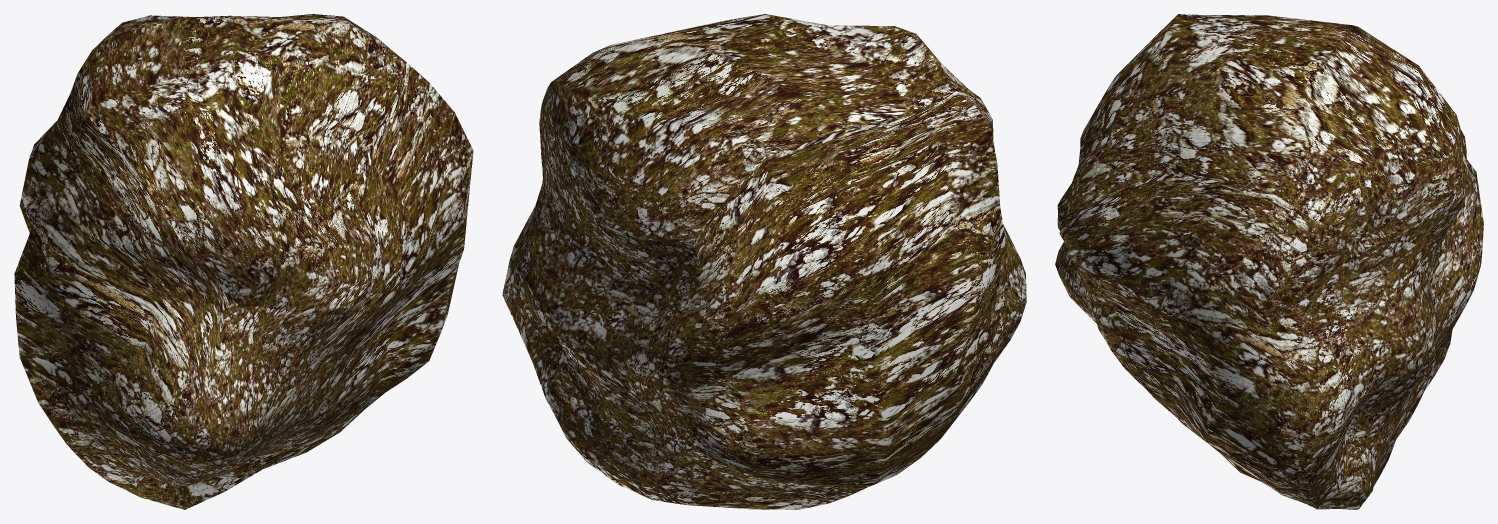
Rendered from Rock.FBX.
3 views of the same model, side by side, from view 1: azimuth 30°, elevation 25°; view 2: azimuth 150°, elevation 25°; view 3: azimuth 270°, elevation 25° (orthographic). The views are drawn at different scales.
Visible parts, largest first — view 1: breakable_rock022; view 2: breakable_rock022; view 3: breakable_rock022.
Part boxes in pixels (left/top/right/bottom): breakable_rock022: left=14, top=14, right=473, bottom=509; breakable_rock022: left=502, top=14, right=1026, bottom=509; breakable_rock022: left=1055, top=14, right=1483, bottom=509.
Bounding box in the file's own units: 52.26 × 50.03 × 45.59.
